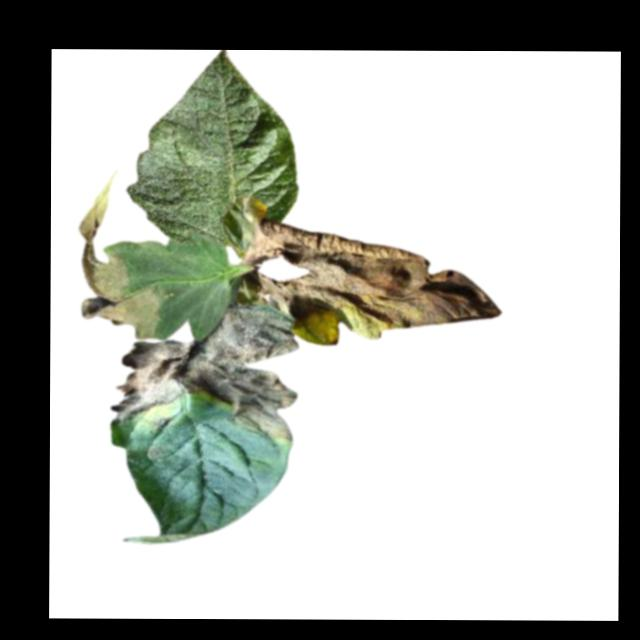Late_blight: (237, 199, 502, 348), (106, 302, 299, 444), (69, 168, 145, 341)
healthy: (127, 50, 298, 242)
